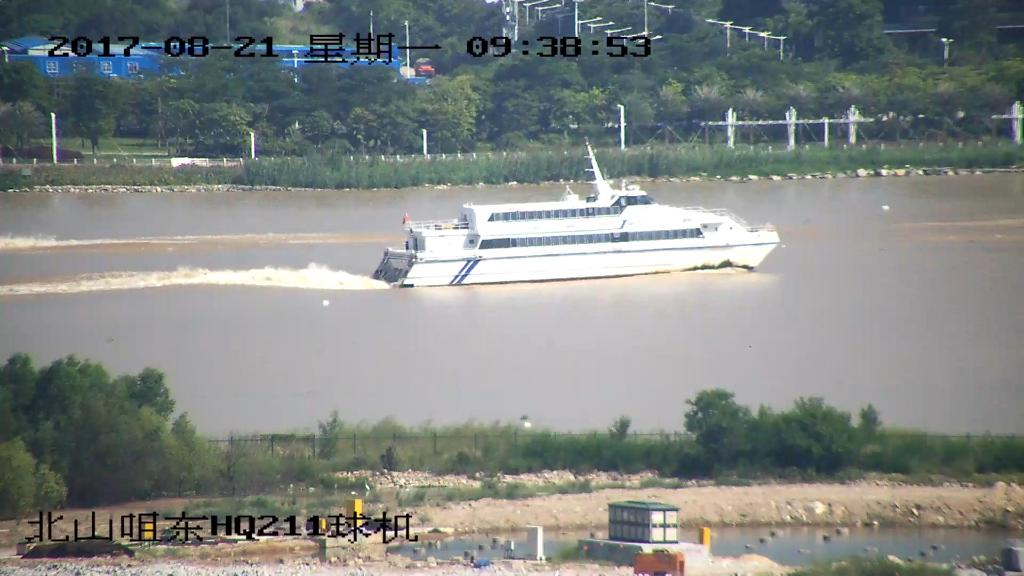PassengerShip: (360, 150, 798, 298)
